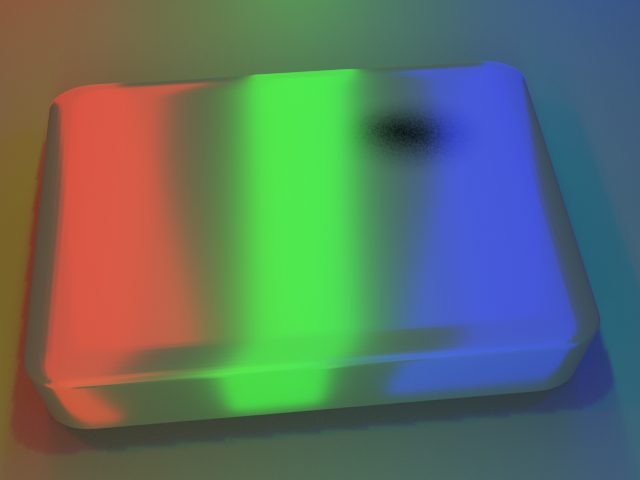stain: (299, 58, 524, 178)
